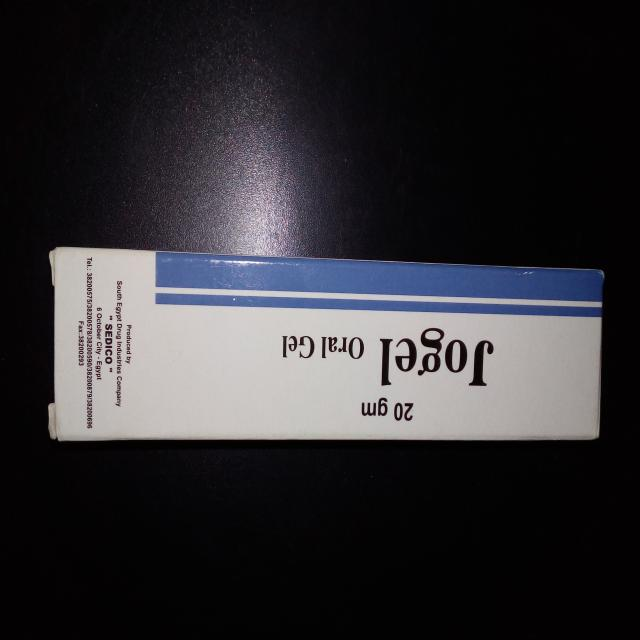Medicine: (45, 238, 607, 449)
